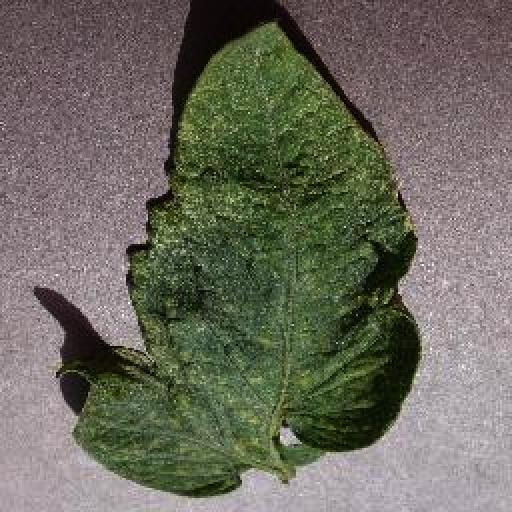disease_tomato: (58, 17, 422, 499)
